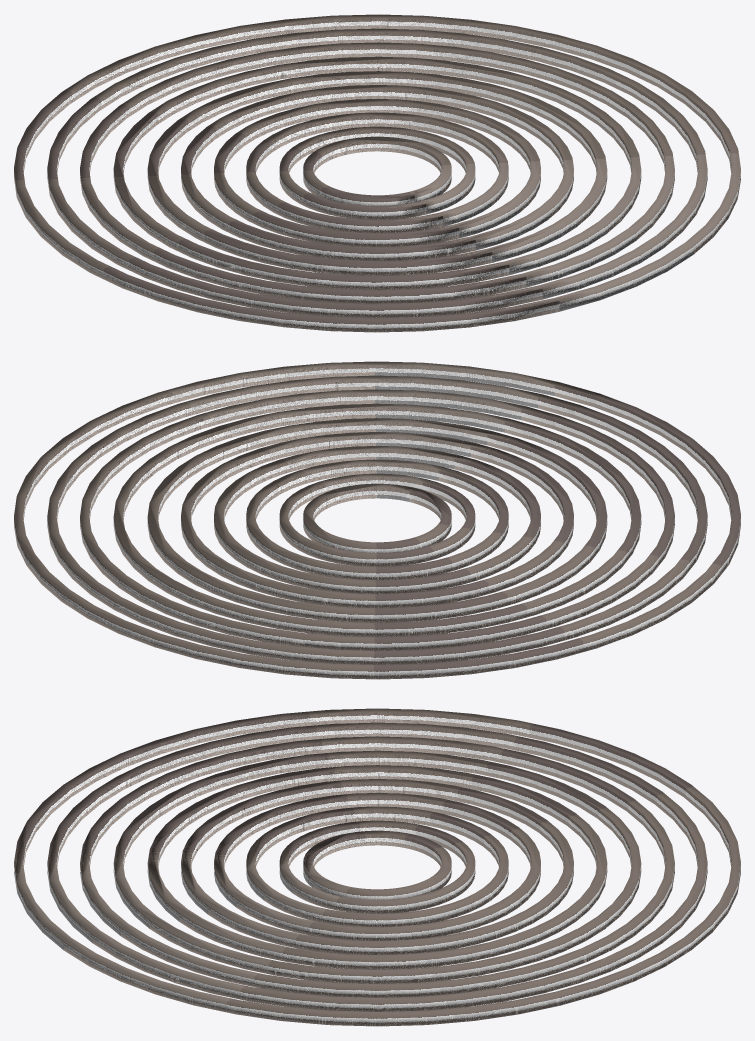
Rendered from planetary_path_755x00.gltf.
3 views of the same model, one above another, from view 1: azimuth 30°, elevation 25°; view 2: azimuth 150°, elevation 25°; view 3: azimuth 270°, elevation 25° (orthographic).
Parts seen in each view (by area): view 1: planetary_path_755x00; view 2: planetary_path_755x00; view 3: planetary_path_755x00.
Boxes of the visible parts, x1,y1,x2,y2 form: planetary_path_755x00: (14, 14, 740, 332); planetary_path_755x00: (14, 361, 740, 679); planetary_path_755x00: (14, 708, 740, 1026).
Size of the model in its own units: 19.2 by 0.318 by 19.2.
Materials: 1 (1 with a texture image).
